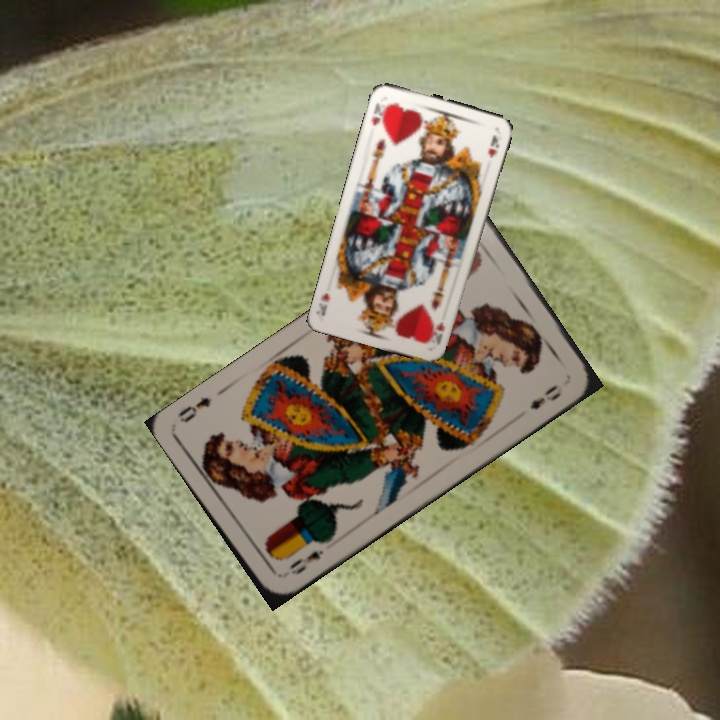EO: (285, 545, 327, 578)
HK: (367, 99, 391, 128), (431, 318, 447, 347)
